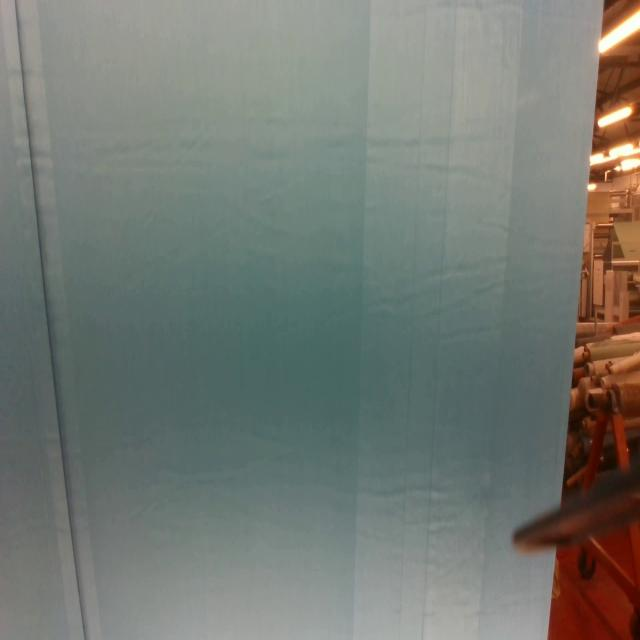crease: (11, 0, 88, 640), (398, 0, 462, 640)
